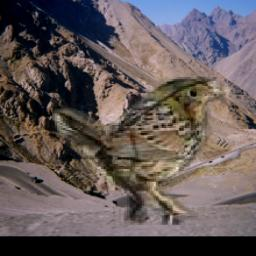Sparrow: (52, 70, 229, 225)
